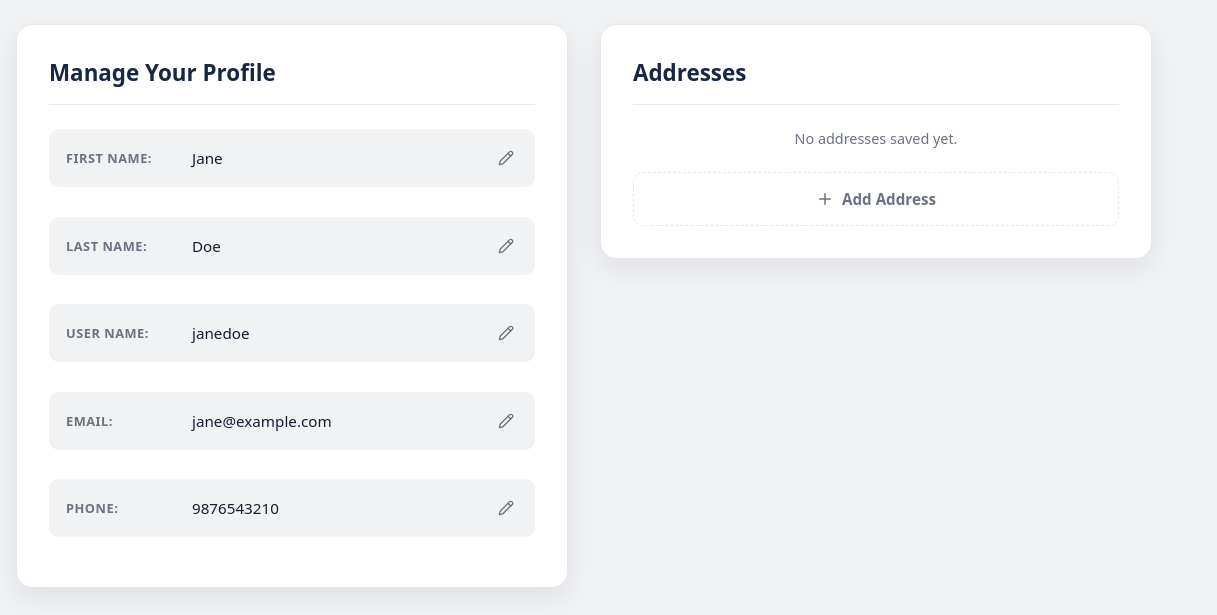
it: ProfilePage — toast notifications › dismisses toast when clicked
Step 1. Click the button named "Edit First Name" → [506, 158], box top-left (494, 146), bottom-right (518, 170)
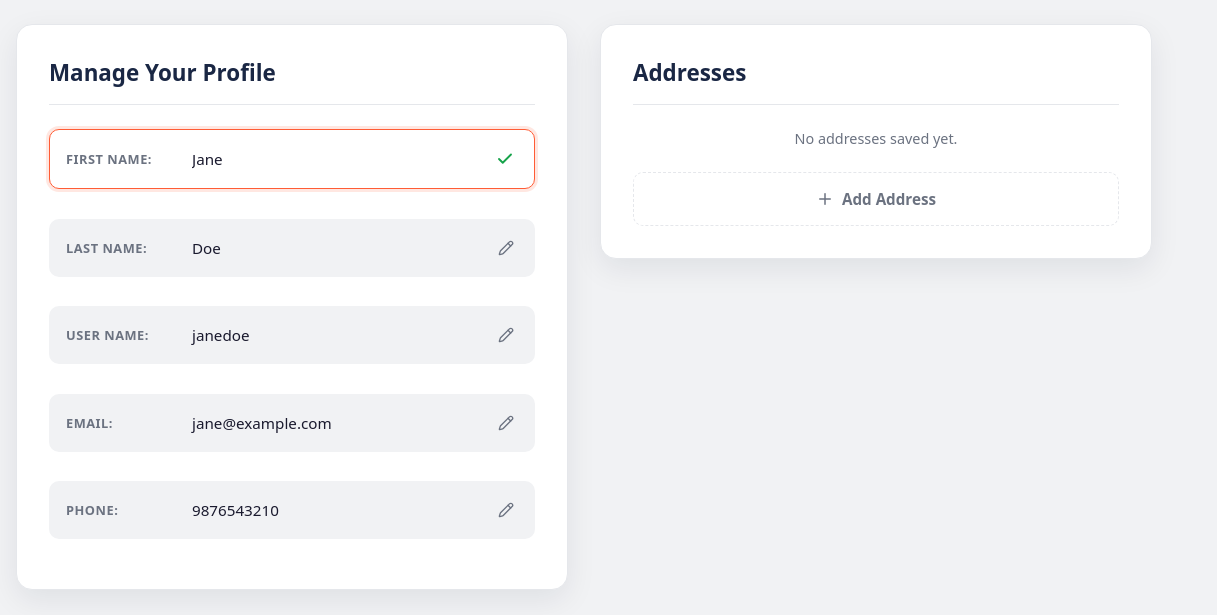
Step 2. Click the button named "Save First Name" → [505, 159], box top-left (492, 146), bottom-right (518, 172)
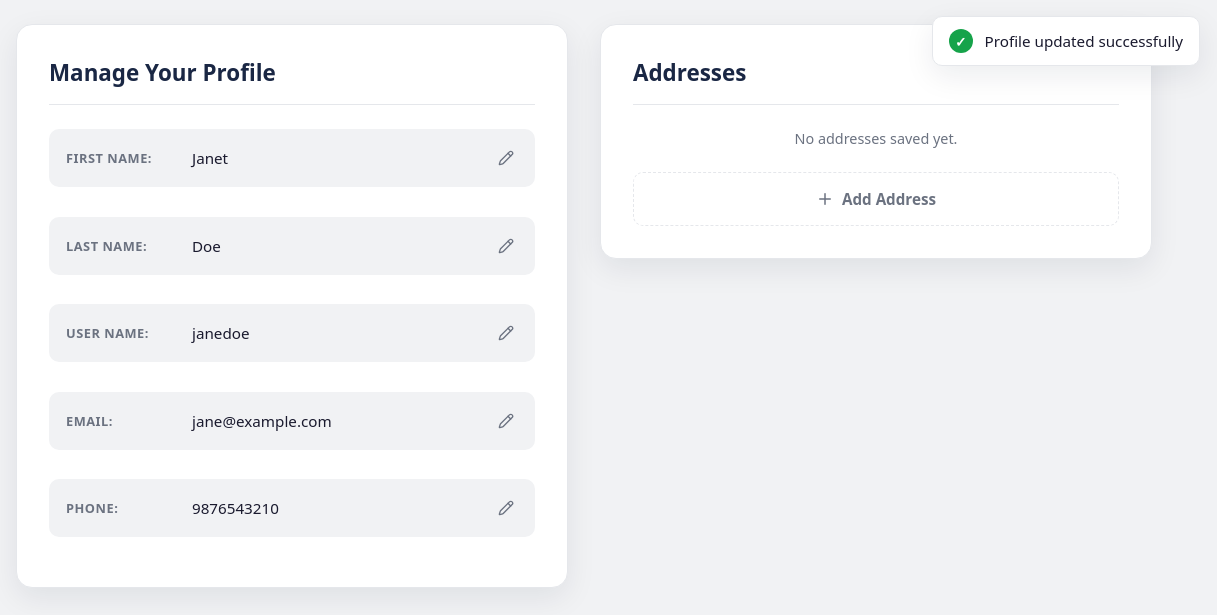
Step 3. Click the message "✓ Profile updated successfully" → [1066, 41], box top-left (932, 16), bottom-right (1200, 66)
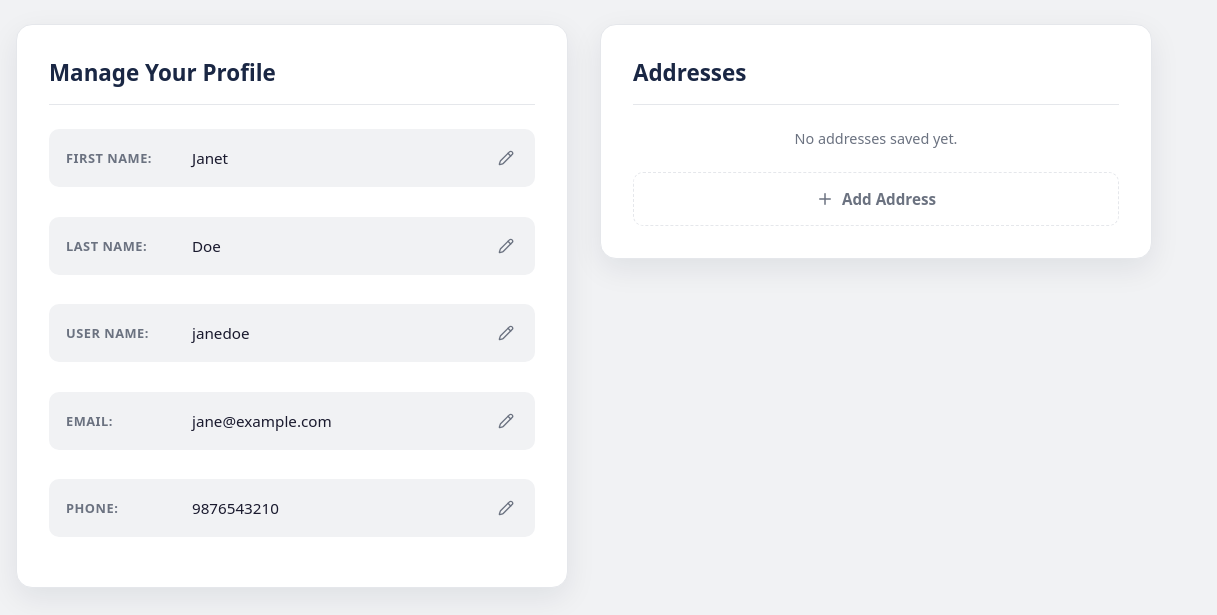
Now the message "✓ Profile updated successfully" is gone
